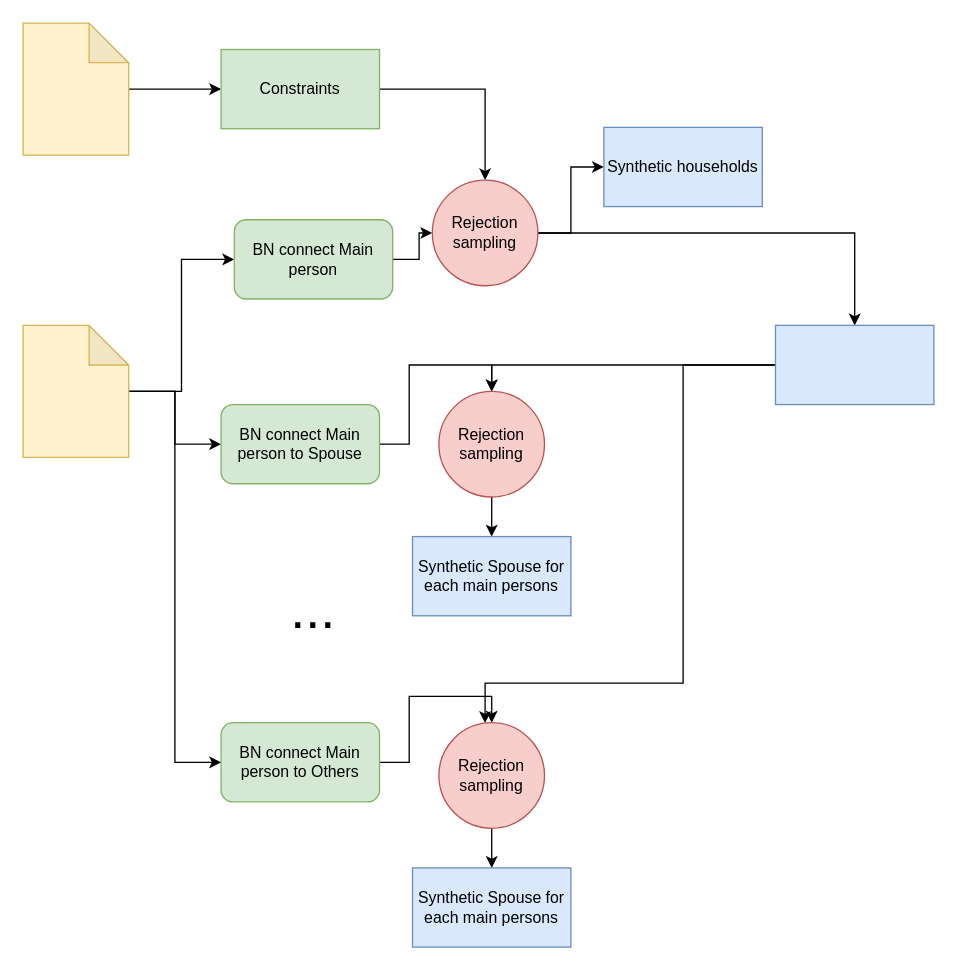
Some shapes in this 957 by 970 pixel diagram are drawn without their labels. The shapes that lost their labels are listed below. From the top down, each one's centre as x and y in pixels, then its label:
At (x=75, y=88): "Marginal data".
At (x=854, y=364): "Synthetic Main persons".
At (x=75, y=390): "Sample data".
